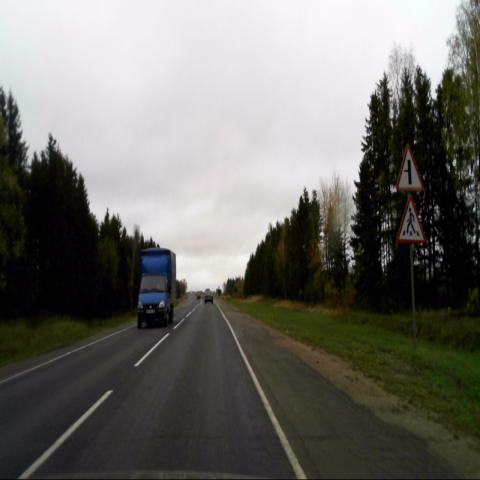2_3_3: (396, 143, 424, 193)
